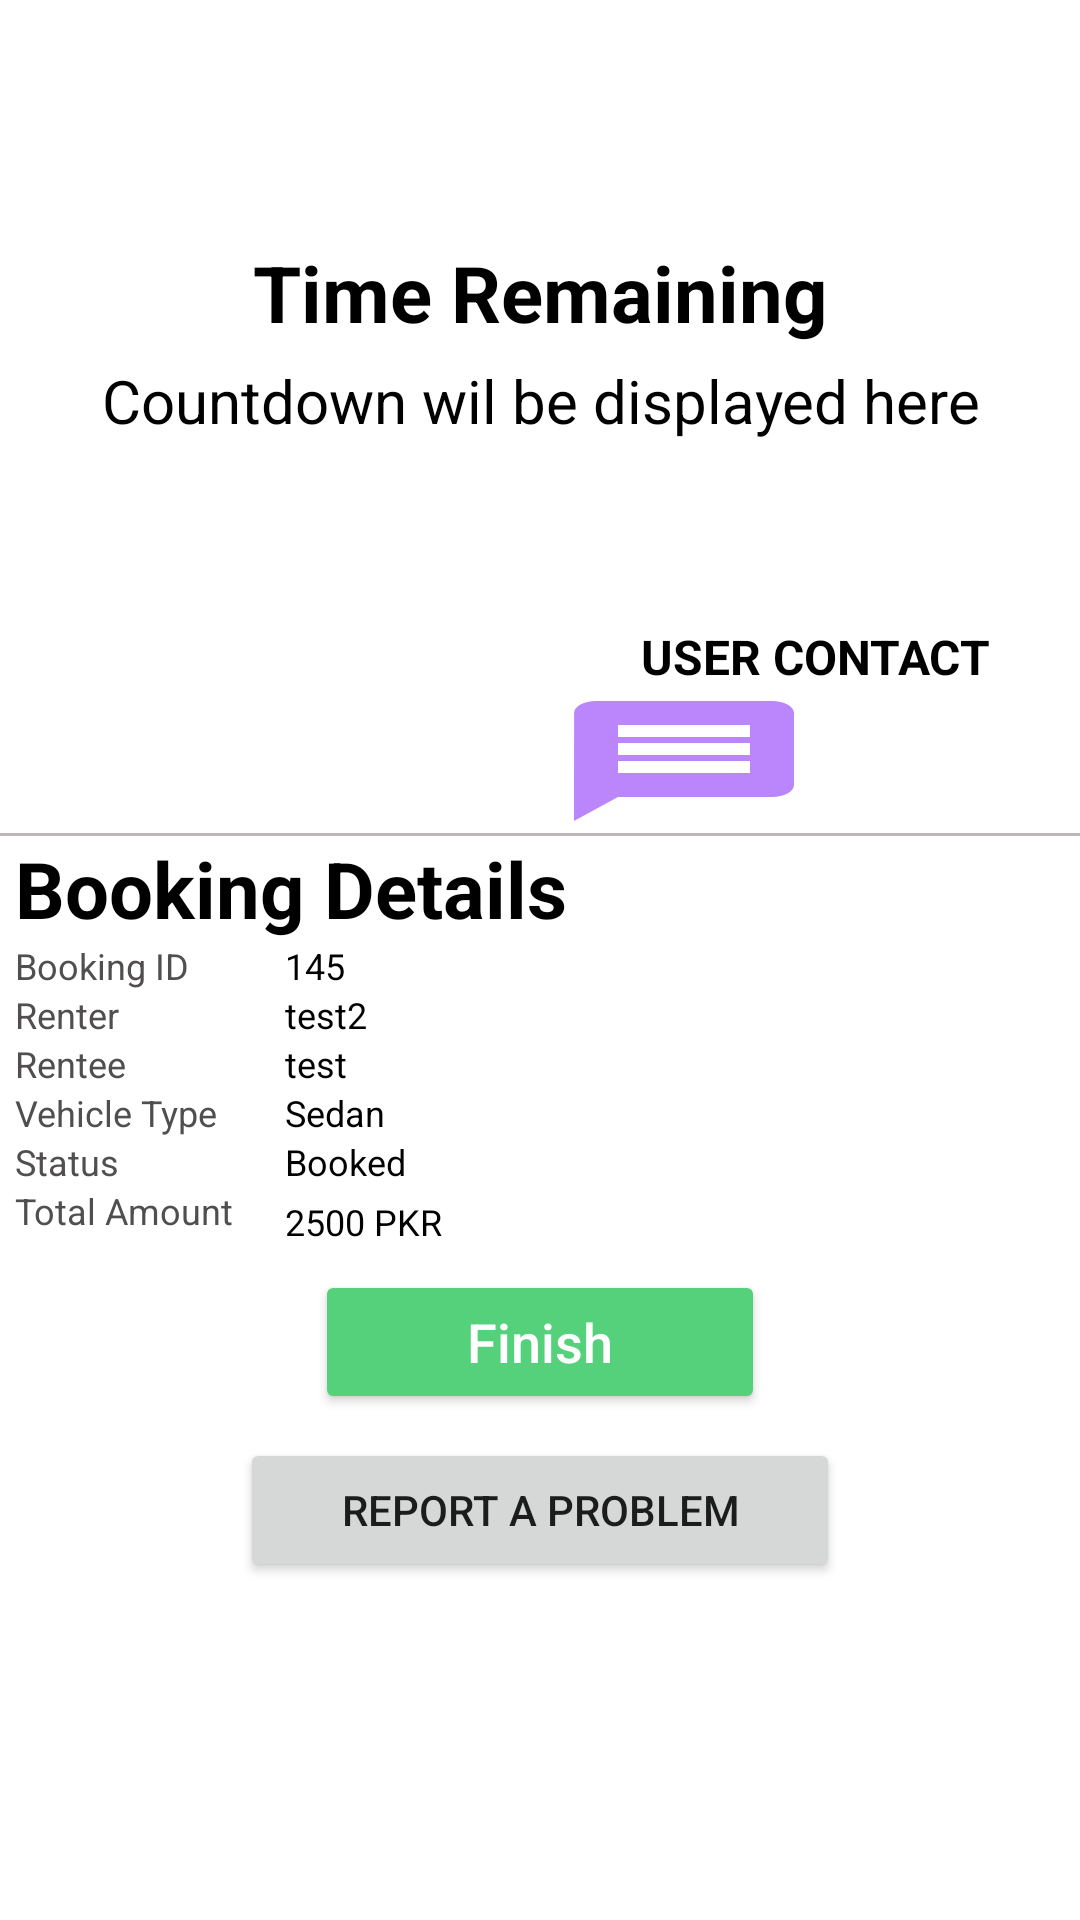

Named icons in this screenshot (1080×1920) and their bounding boxes, (x1, y1, x2, y2):
message: (574, 701, 794, 821)
